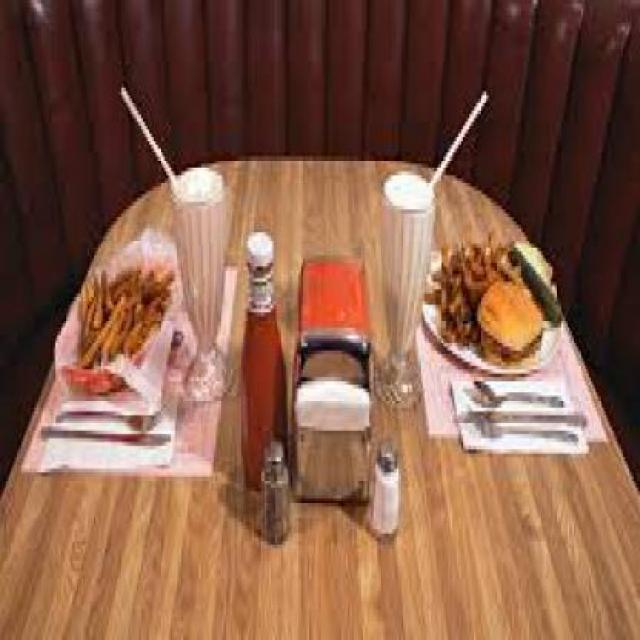french fries: (72, 248, 176, 382), (433, 232, 478, 343)
hamburger: (480, 270, 545, 362)
